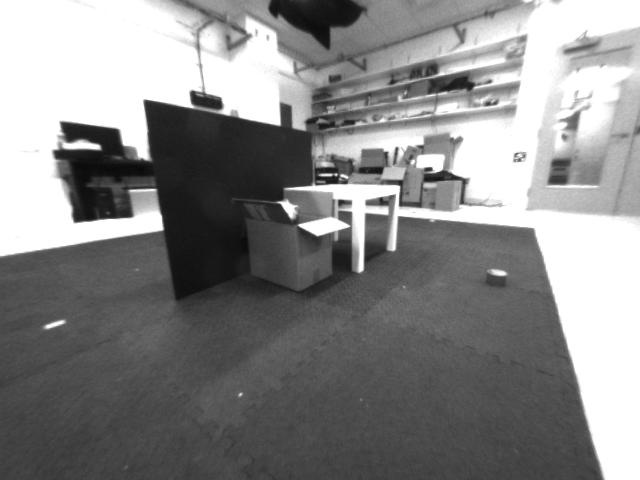dogtoy: (477, 263, 519, 289)
